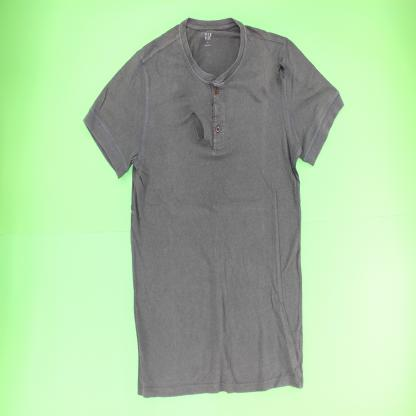hole: (190, 110, 206, 143), (276, 59, 287, 78)
